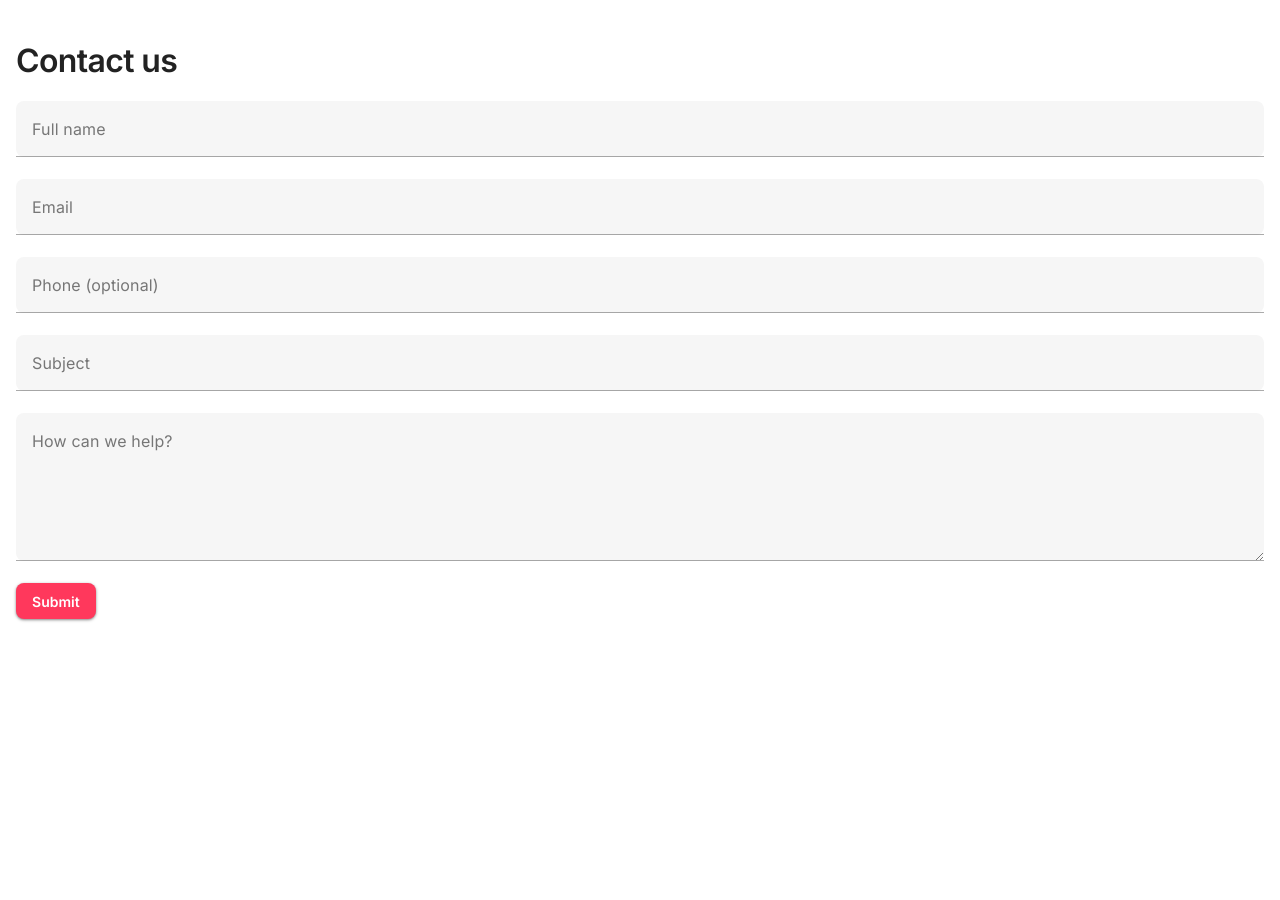
Test case: WidgetEmbedView › clears a prior submit error when a later attempt fails client-side validation instead
The width and height of the screenshot is (1280, 900).
In the field labelled "Full name": (640, 129) [16,101,1264,157], type "Jane Customer"
In the field labelled "Email": (640, 207) [16,179,1264,235], type "jane@example.com"
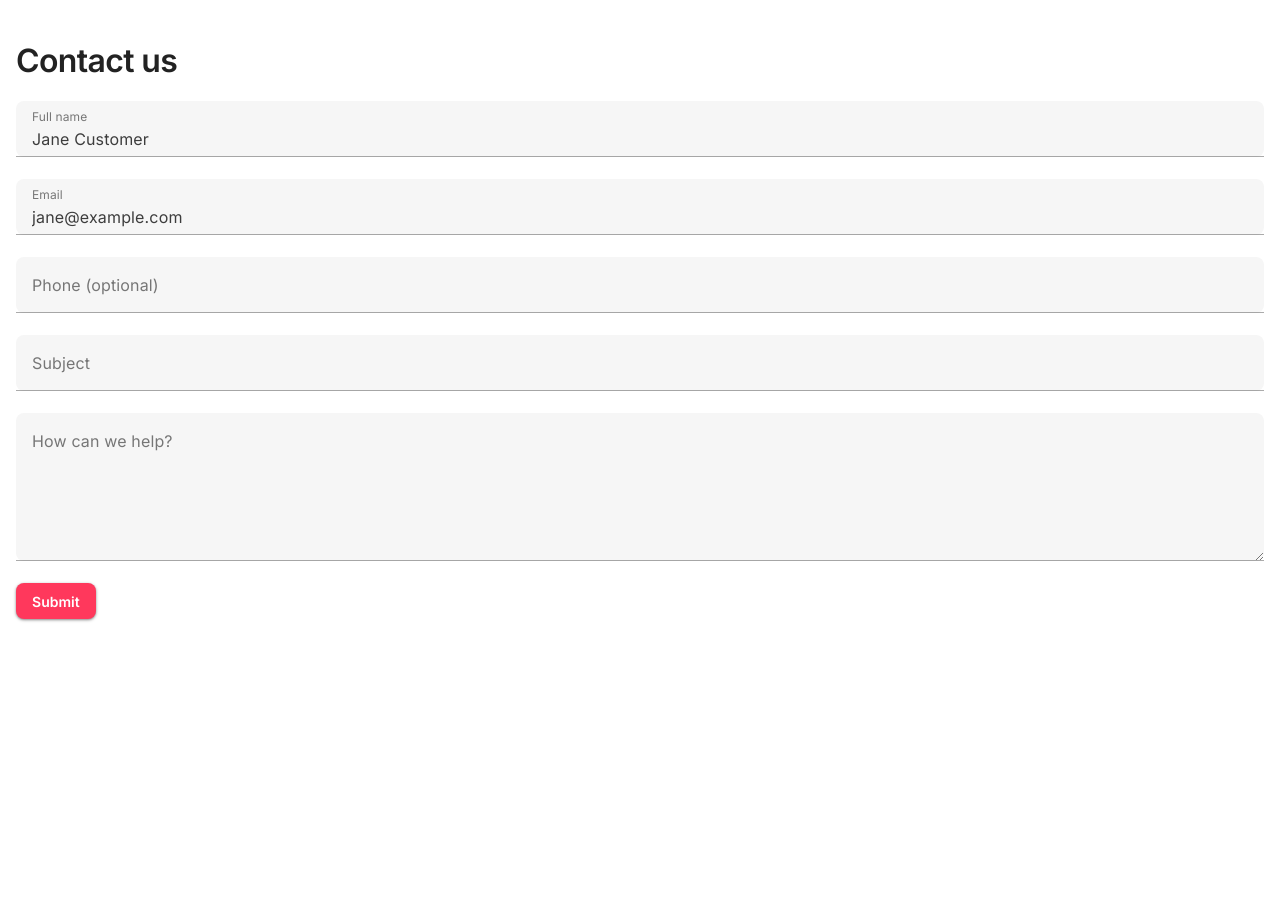
In the field labelled "Subject": (640, 363) [16,335,1264,391], type "Cannot log in"
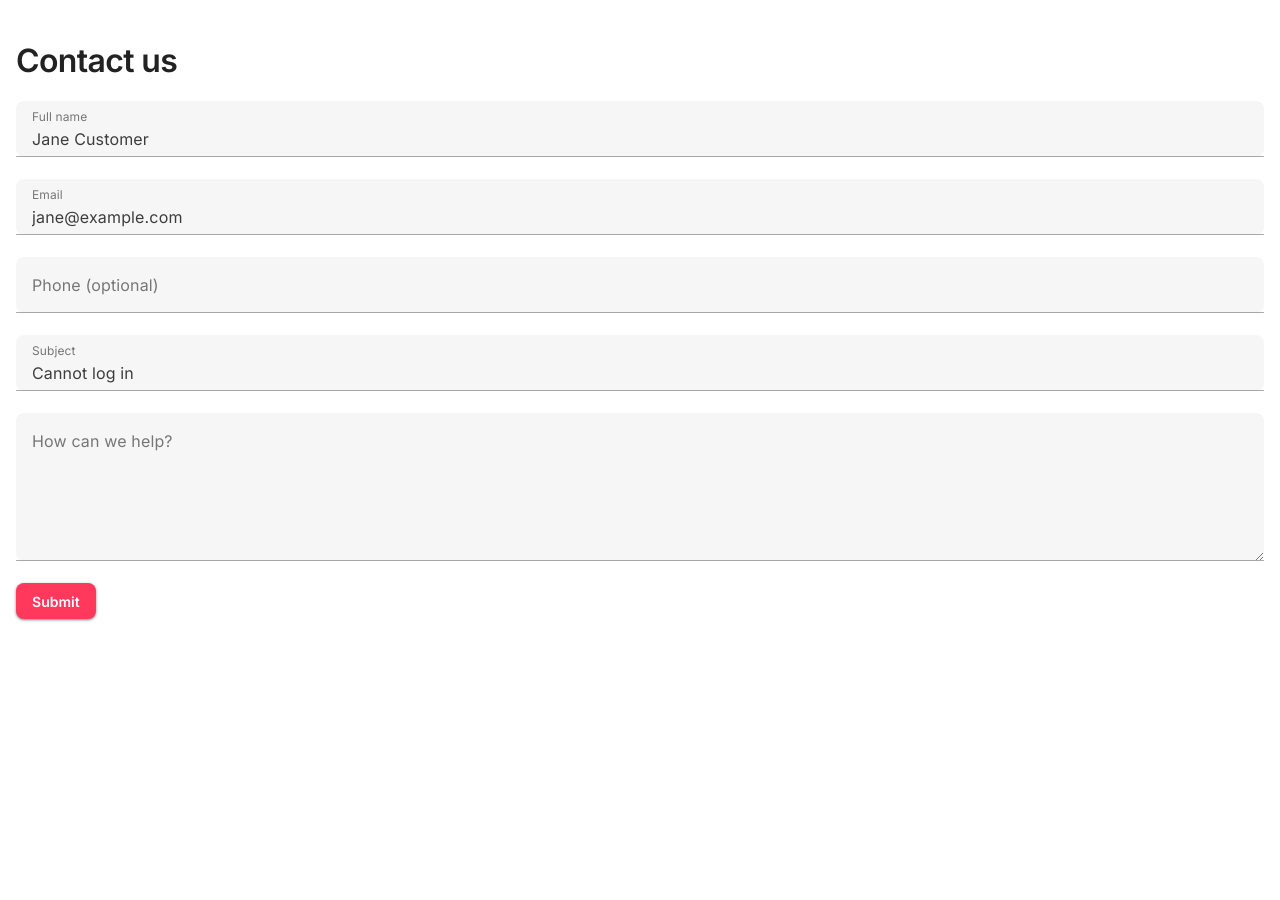
In the text box labelled "How can we help?": (640, 487) [16,413,1264,561], type "Getting an error"
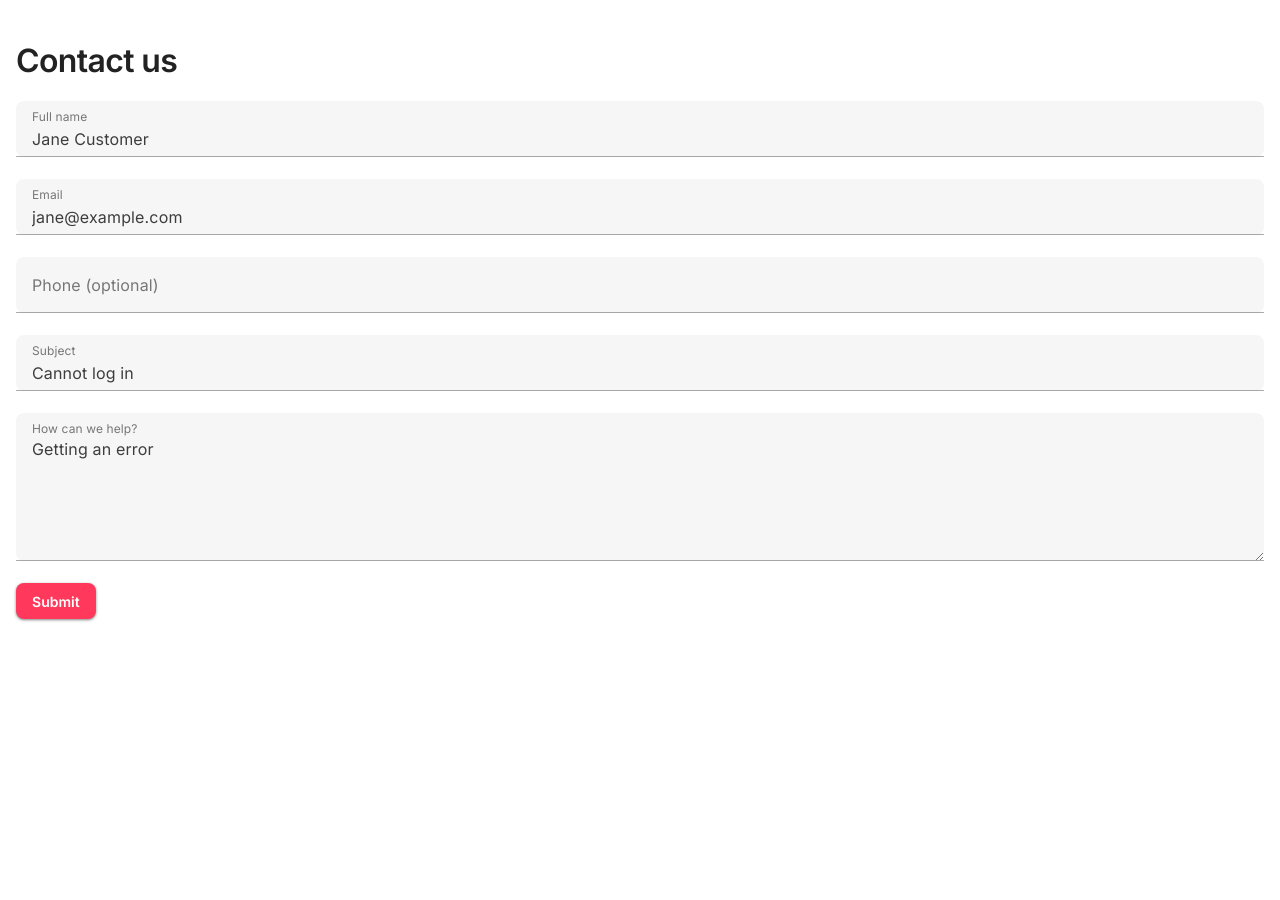
Submit the form, box [16,101,1264,619]
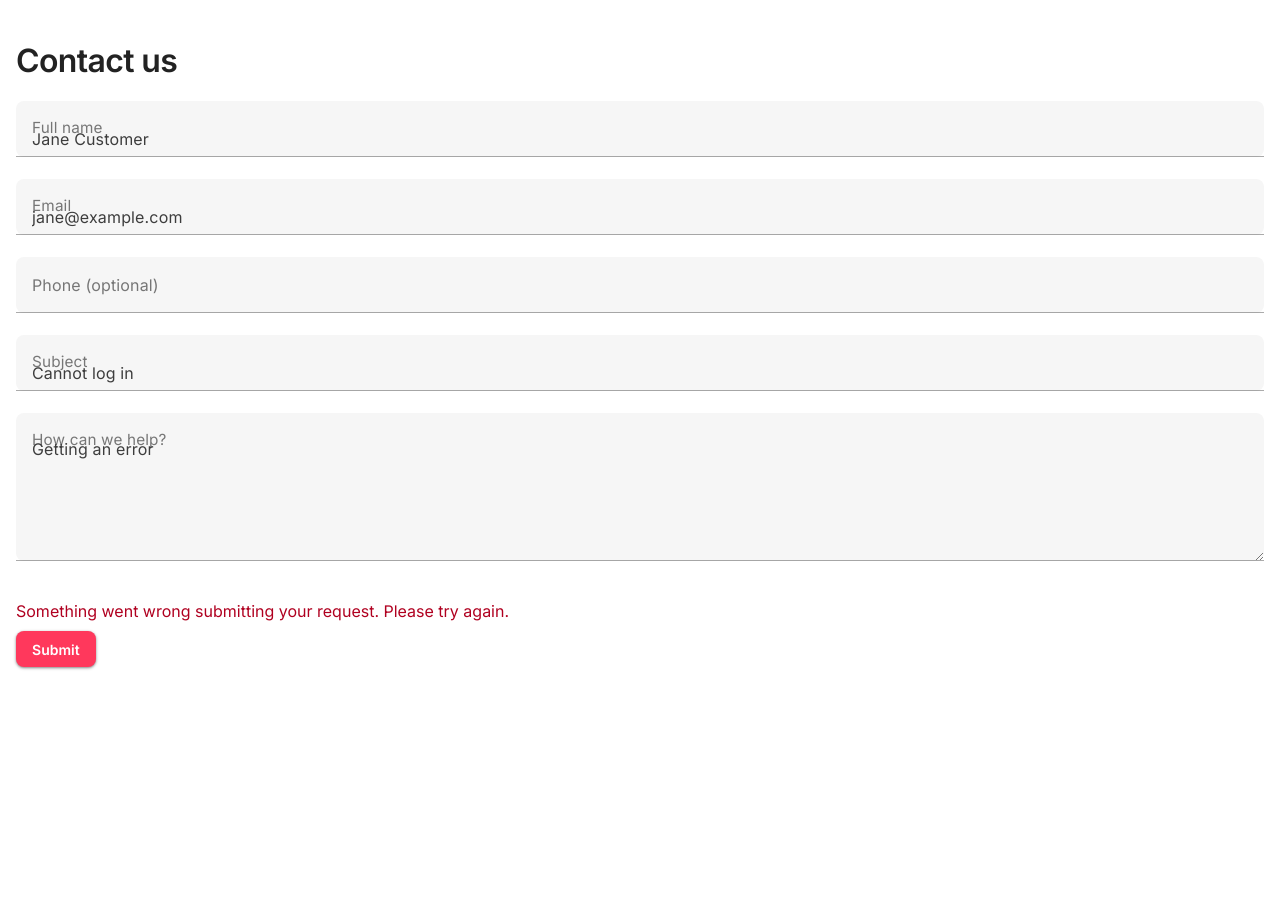
Now the text with test id "widget-submit-error" is shown, box [16,601,509,621]
Clear the field labelled "Email": (640, 207) [16,179,1264,235]
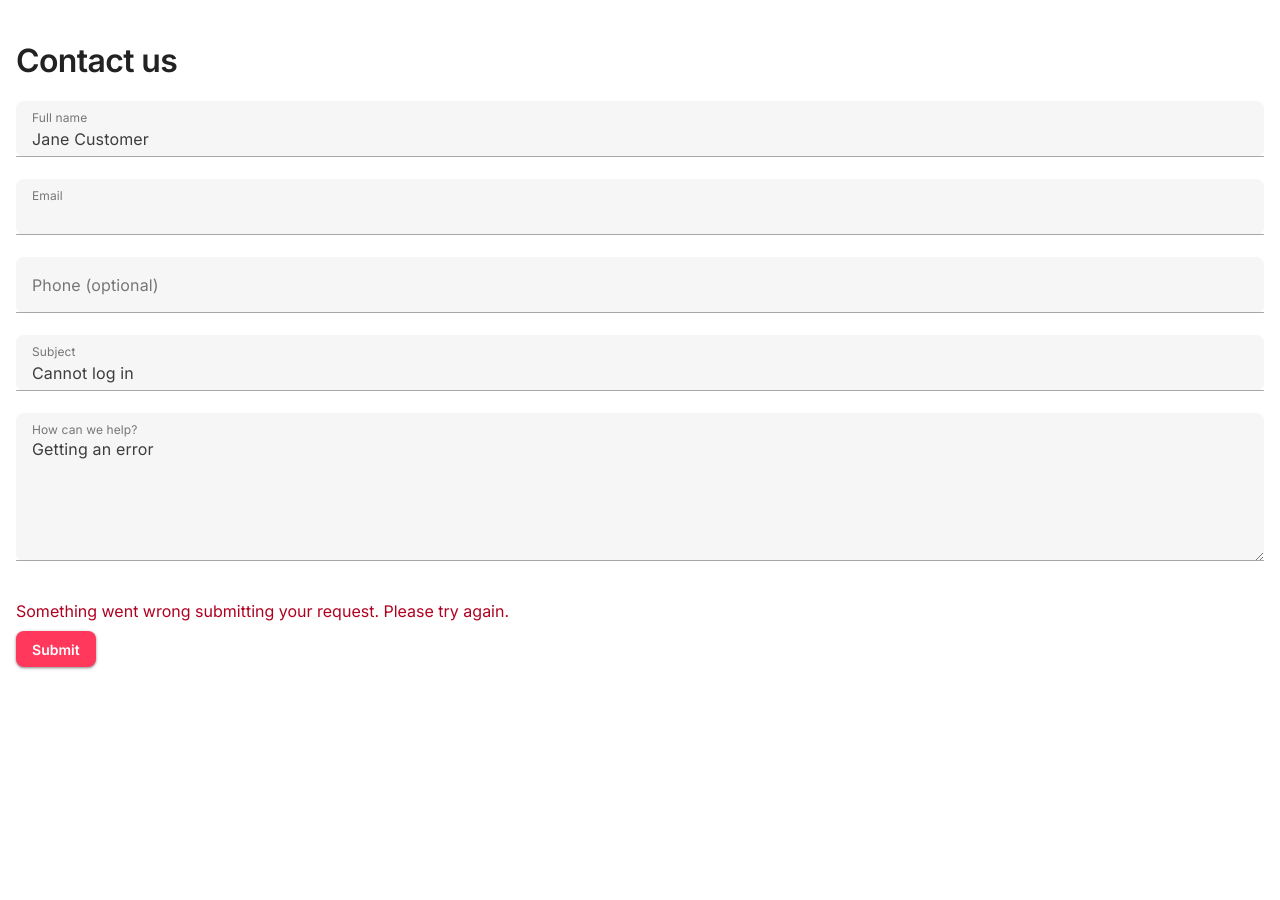
Submit the form
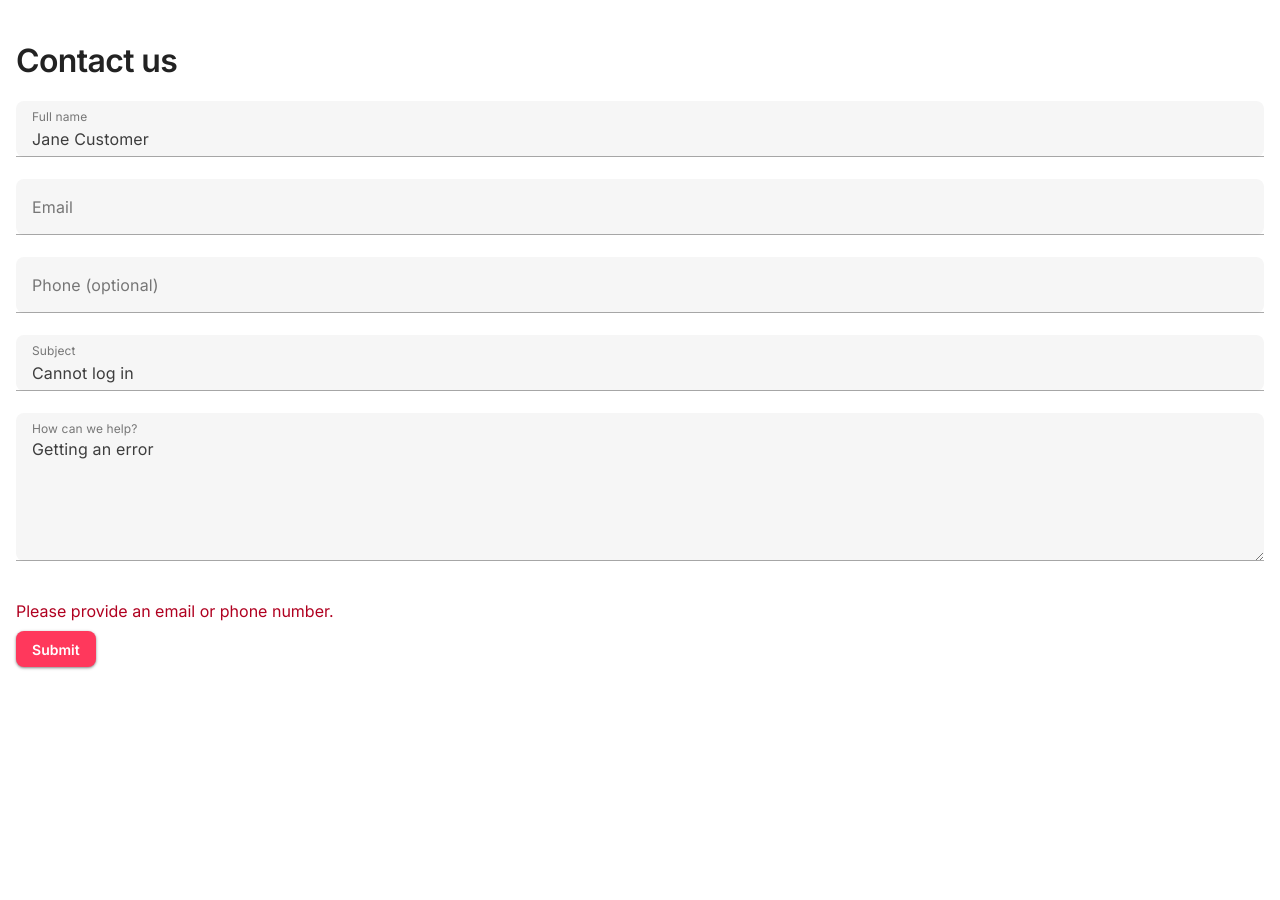
Now the text "Please provide an email or phone number." is shown, box [16,601,334,621]
